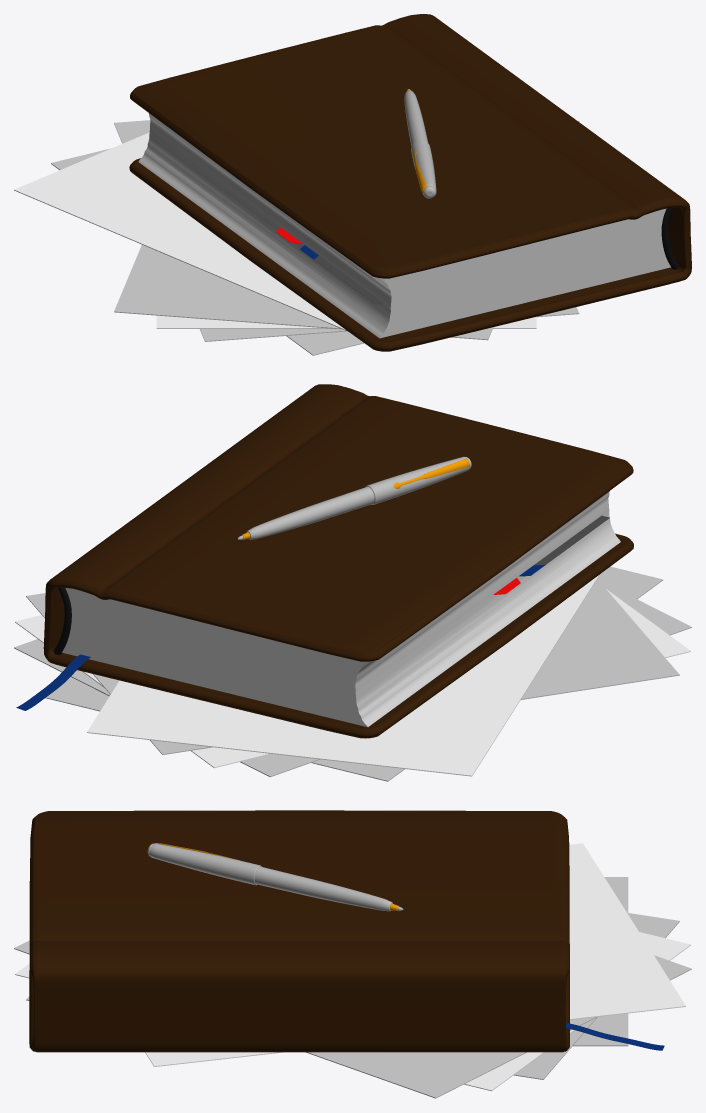
3 views of the same model, one above another, from view 1: azimuth 30°, elevation 25°; view 2: azimuth 150°, elevation 25°; view 3: azimuth 270°, elevation 25° (orthographic). The views are drawn at different scales.
Parts seen in each view (by area): view 1: arch20_067_00, arch20_067_01, arch20_067_08, arch20_067_07, arch20_067_05, arch20_067_06, arch20_067_04, arch20_067_16, arch20_067_17; view 2: arch20_067_00, arch20_067_01, arch20_067_08, arch20_067_07, arch20_067_04, arch20_067_05, arch20_067_06, arch20_067_16, arch20_067_17, arch20_067_02; view 3: arch20_067_00, arch20_067_08, arch20_067_07, arch20_067_16, arch20_067_17, arch20_067_06, arch20_067_05, arch20_067_04, arch20_067_02.
Boxes of the visible parts, left/top/right/bottom form: arch20_067_00: left=129, top=14, right=691, bottom=351; arch20_067_01: left=138, top=113, right=670, bottom=338; arch20_067_08: left=14, top=132, right=348, bottom=331; arch20_067_07: left=114, top=121, right=579, bottom=340; arch20_067_05: left=114, top=120, right=579, bottom=341; arch20_067_06: left=156, top=315, right=536, bottom=328; arch20_067_04: left=51, top=148, right=363, bottom=355; arch20_067_16: left=404, top=90, right=435, bottom=198; arch20_067_17: left=407, top=89, right=436, bottom=197; arch20_067_00: left=43, top=384, right=633, bottom=738; arch20_067_01: left=62, top=491, right=620, bottom=727; arch20_067_08: left=87, top=574, right=600, bottom=776; arch20_067_07: left=26, top=579, right=679, bottom=754; arch20_067_04: left=45, top=566, right=663, bottom=781; arch20_067_05: left=14, top=579, right=691, bottom=777; arch20_067_06: left=15, top=589, right=690, bottom=768; arch20_067_16: left=246, top=457, right=471, bottom=539; arch20_067_17: left=237, top=456, right=469, bottom=539; arch20_067_02: left=16, top=654, right=90, bottom=710; arch20_067_00: left=29, top=810, right=569, bottom=1052; arch20_067_08: left=145, top=843, right=685, bottom=1066; arch20_067_07: left=14, top=940, right=691, bottom=1098; arch20_067_16: left=147, top=843, right=392, bottom=911; arch20_067_17: left=150, top=843, right=403, bottom=910; arch20_067_06: left=15, top=932, right=690, bottom=1091; arch20_067_05: left=26, top=912, right=679, bottom=1079; arch20_067_04: left=573, top=877, right=628, bottom=1046; arch20_067_02: left=566, top=1023, right=664, bottom=1050.
Bounding box in the file's own units: 347 × 65.2 × 357.
